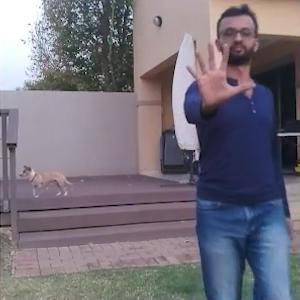follow_hand: (182, 38, 256, 111)
